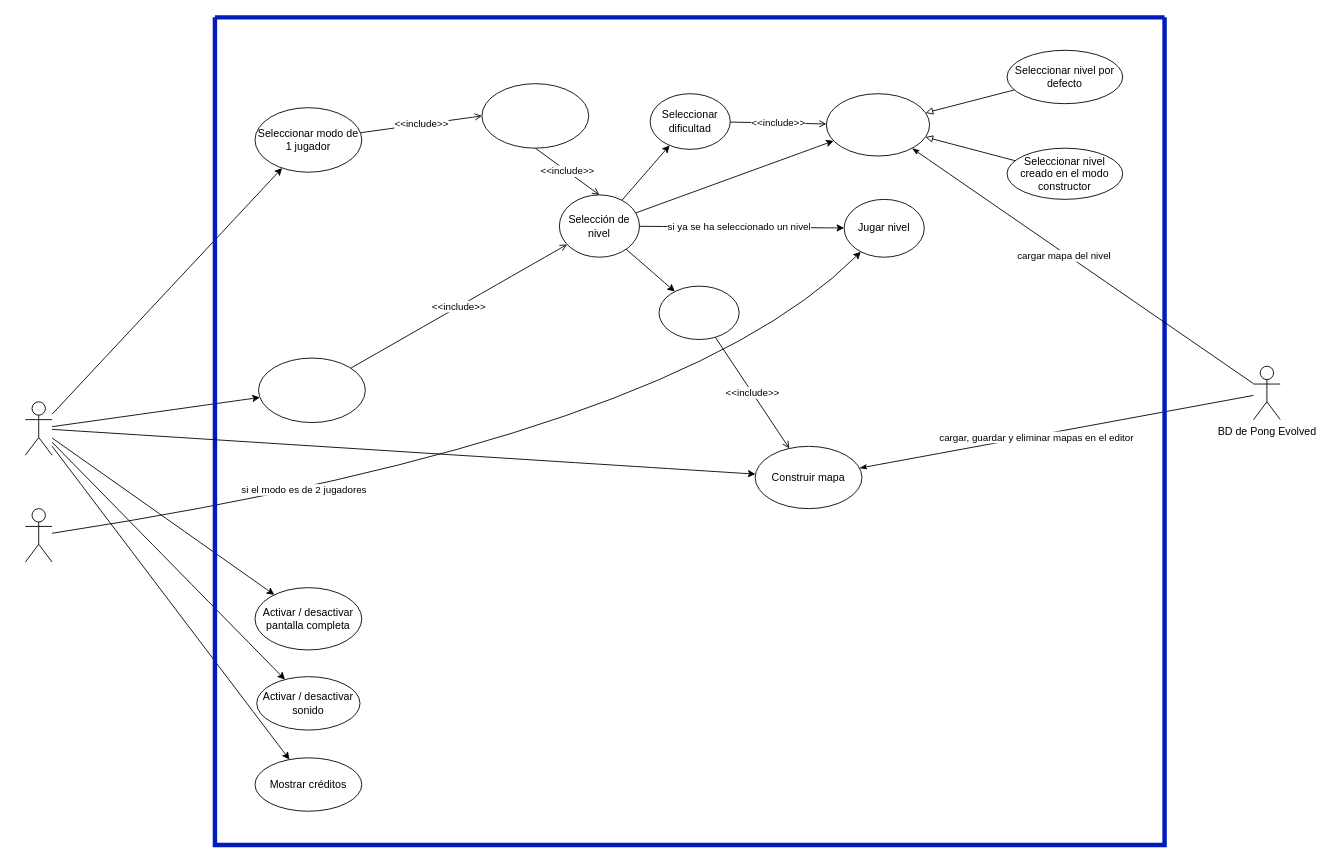
This 1331x862 diagram has some shape labels left out. The shapes that lost their labels are listed below. From the top down, each one's box as (x1, y1, x2, y2) in pixels, then its label:
(481, 83, 589, 148): Seleccionar dificultad IA
(825, 93, 930, 156): Seleccionar nivel conforme a la dificultad
(658, 285, 739, 340): Cambiar al modo constructor
(258, 357, 365, 423): Seleccionar modo de 2 jugadores
(24, 401, 52, 455): Jugador 1
(24, 508, 52, 562): Jugador 2
